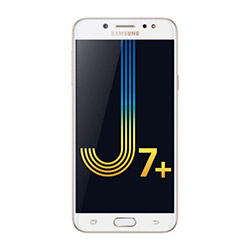Handphone: (67, 16, 183, 237)
